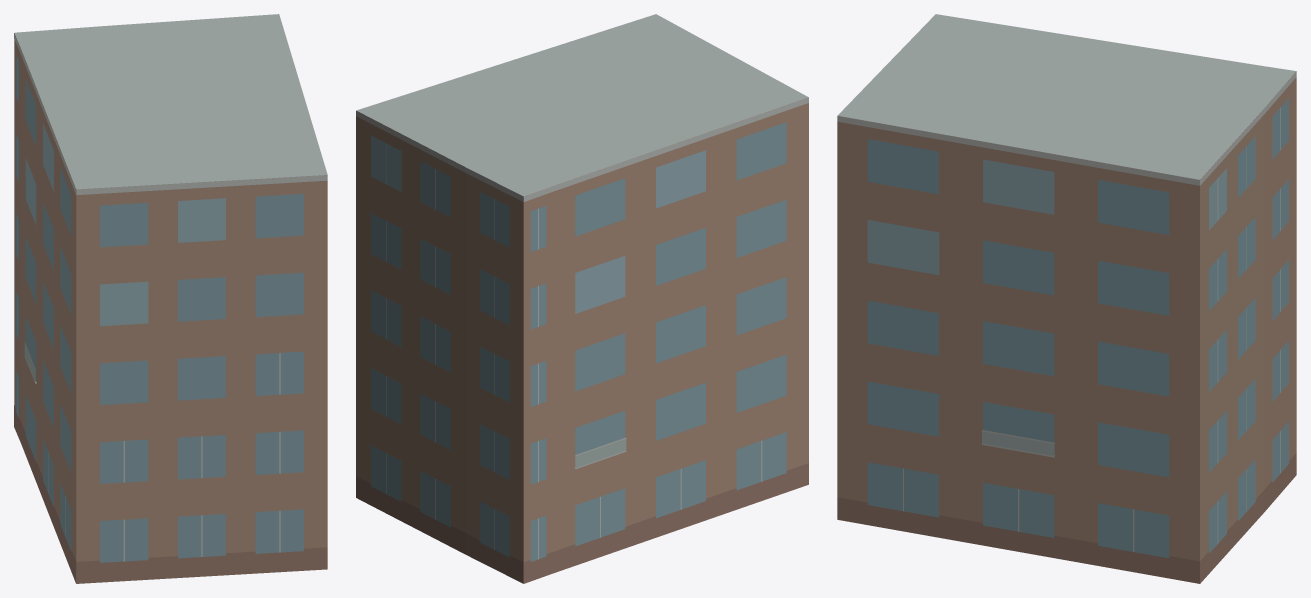
Rendered from survey-upis-32753301.glb.
3 views of the same model, side by side, from view 1: azimuth 30°, elevation 25°; view 2: azimuth 150°, elevation 25°; view 3: azimuth 270°, elevation 25° (orthographic). The views are drawn at different scales.
Visible parts, largest first — view 1: survey-upis-32753301.tmp; view 2: survey-upis-32753301.tmp; view 3: survey-upis-32753301.tmp.
Part boxes in pixels (<box>): survey-upis-32753301.tmp: <box>14,14,327,583</box>; survey-upis-32753301.tmp: <box>356,14,808,583</box>; survey-upis-32753301.tmp: <box>837,14,1296,583</box>.
Size of the model in its own units: 14.77 by 16.75 by 17.27.
